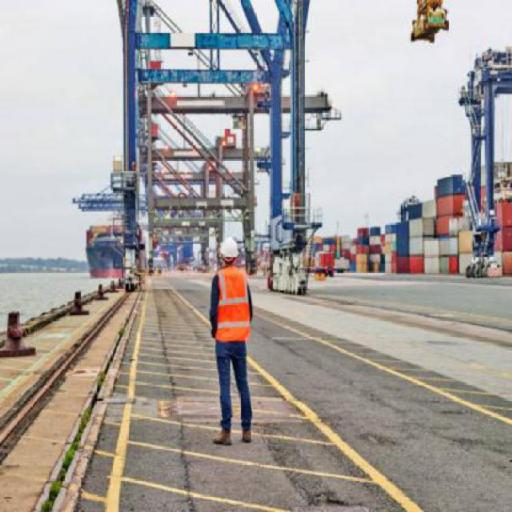hardhat: (216, 234, 243, 260)
person: (202, 230, 264, 450)
vest: (208, 265, 252, 345)
